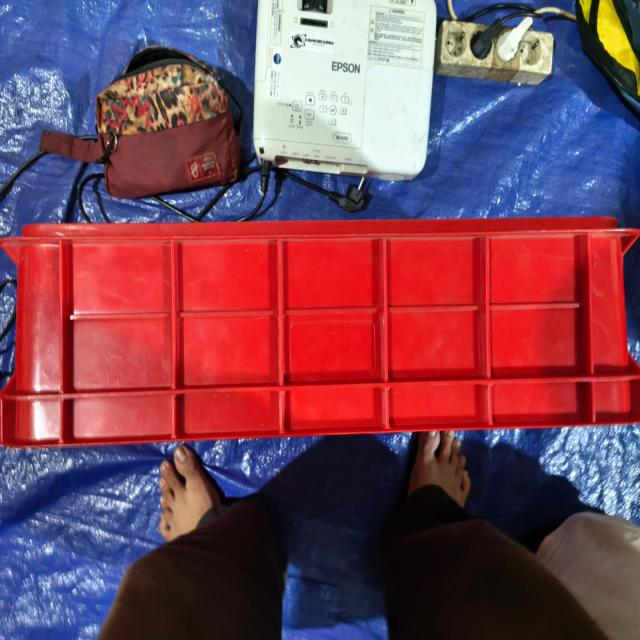red plastic box: (0, 217, 640, 448)
